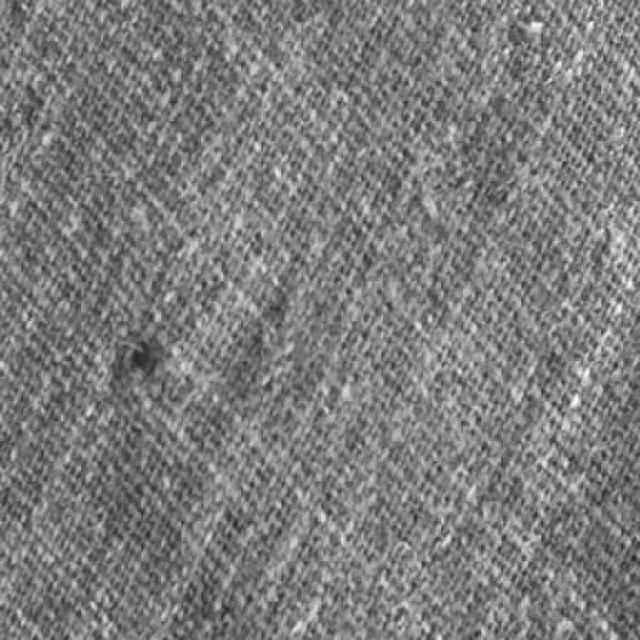other: (72, 288, 200, 410)
